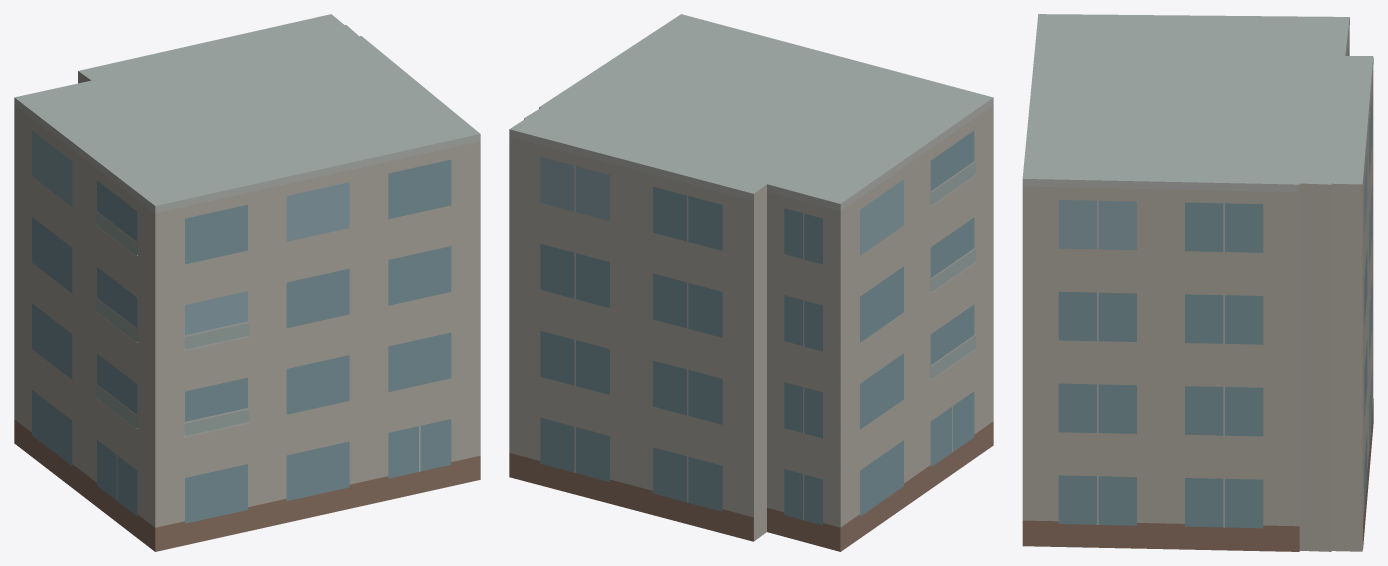
File: survey-upis-32679043.glb
The picture shows the model from 3 angles, left to right: view 1: azimuth 30°, elevation 25°; view 2: azimuth 150°, elevation 25°; view 3: azimuth 270°, elevation 25°; orthographic projection. The views are drawn at different scales.
Visible parts, largest first — view 1: survey-upis-32679043.tmp; view 2: survey-upis-32679043.tmp; view 3: survey-upis-32679043.tmp.
Boxes of the visible parts, box(x1,y1,x2,y2) form: survey-upis-32679043.tmp: box(14, 14, 480, 551); survey-upis-32679043.tmp: box(509, 14, 993, 551); survey-upis-32679043.tmp: box(1022, 14, 1373, 551).
Size of the model in its own units: 11.67 by 11.7 by 10.14.
